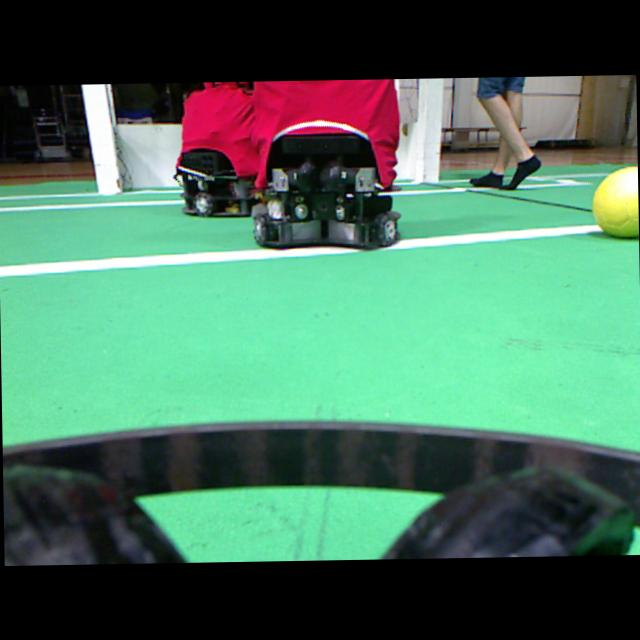ball: (592, 166, 638, 236)
goal: (81, 84, 121, 194), (418, 78, 442, 181)
